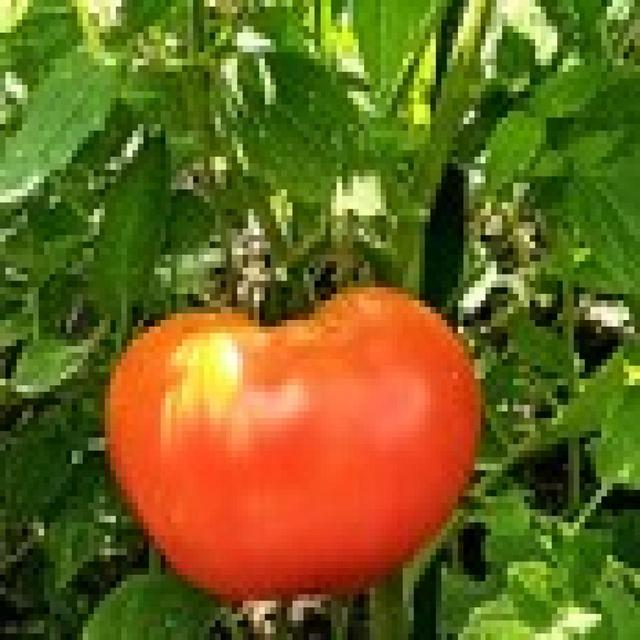Healthy Fruit: (76, 199, 317, 399)
